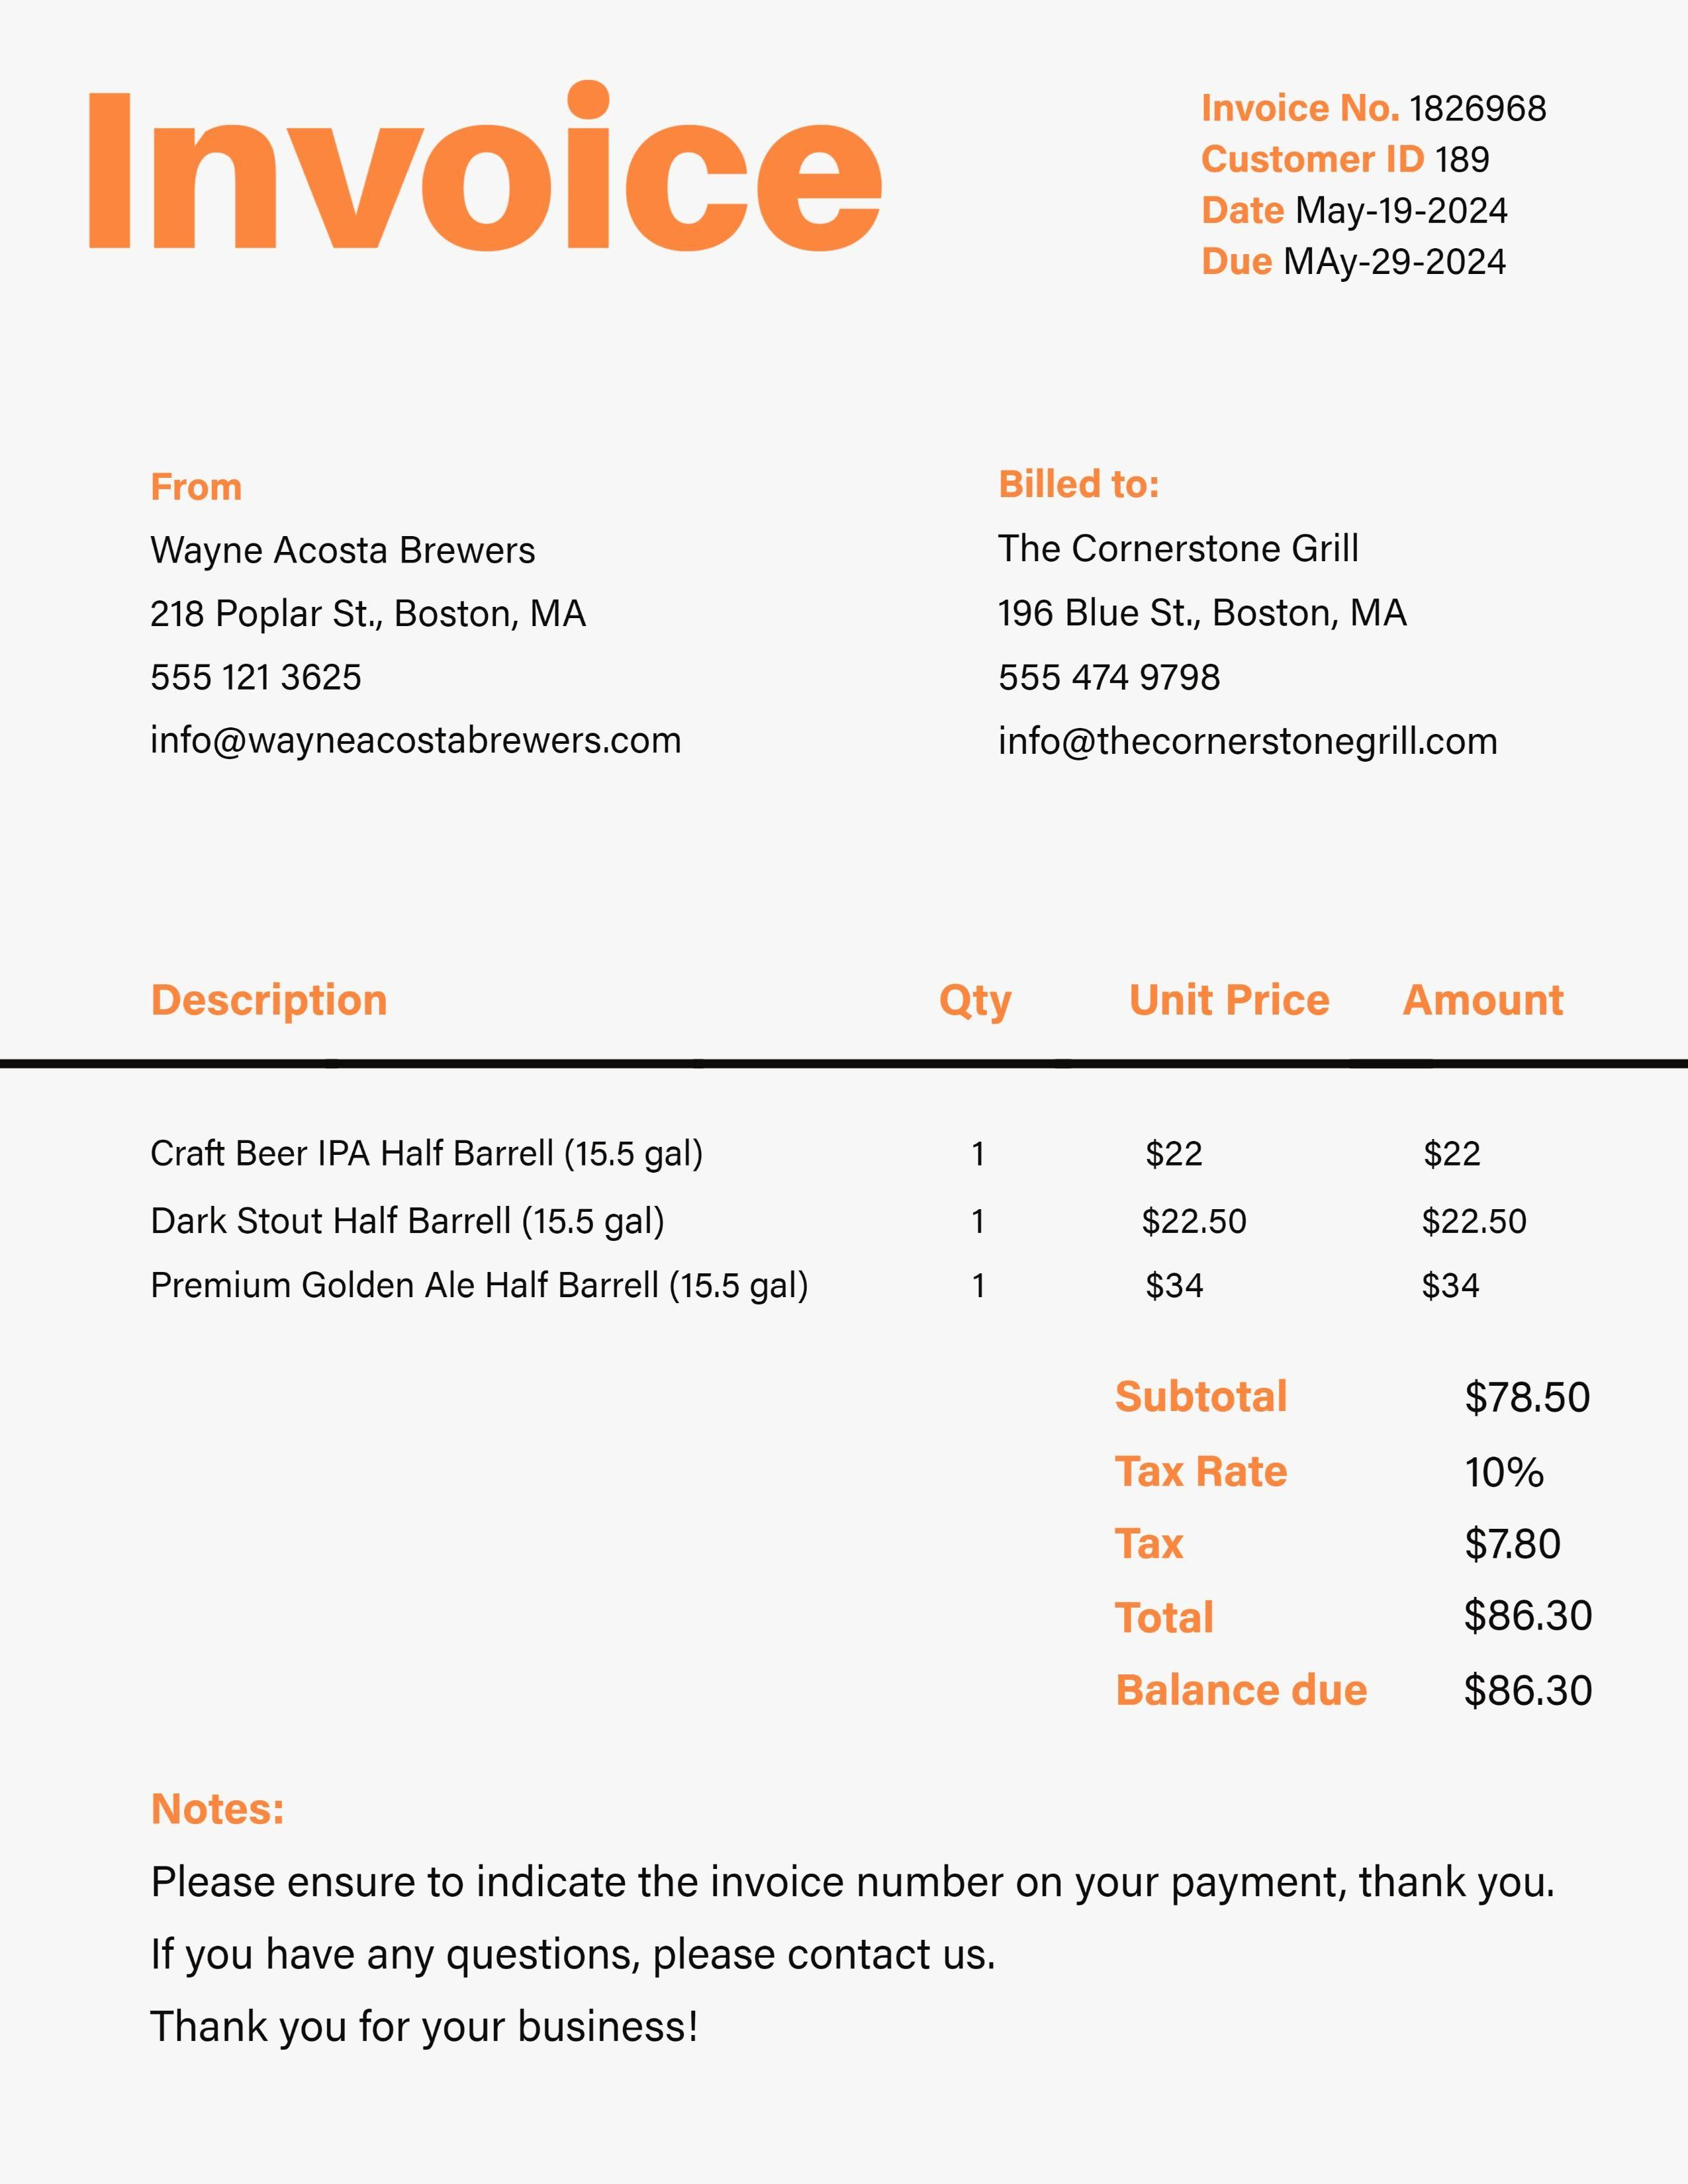ROI: (140, 981, 1585, 1309), (136, 1786, 1582, 2059), (141, 469, 708, 788), (1107, 1375, 1618, 1723), (982, 467, 1505, 772), (1176, 77, 1568, 300)
